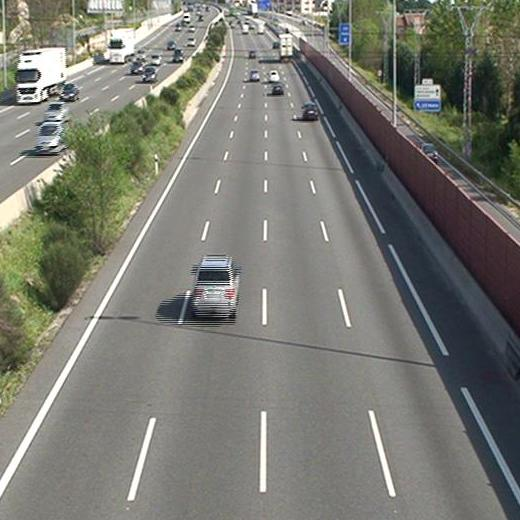car: (192, 257, 240, 317), (303, 103, 319, 119), (271, 82, 284, 95), (268, 69, 279, 82), (249, 69, 258, 80)
truck: (279, 33, 291, 61)
